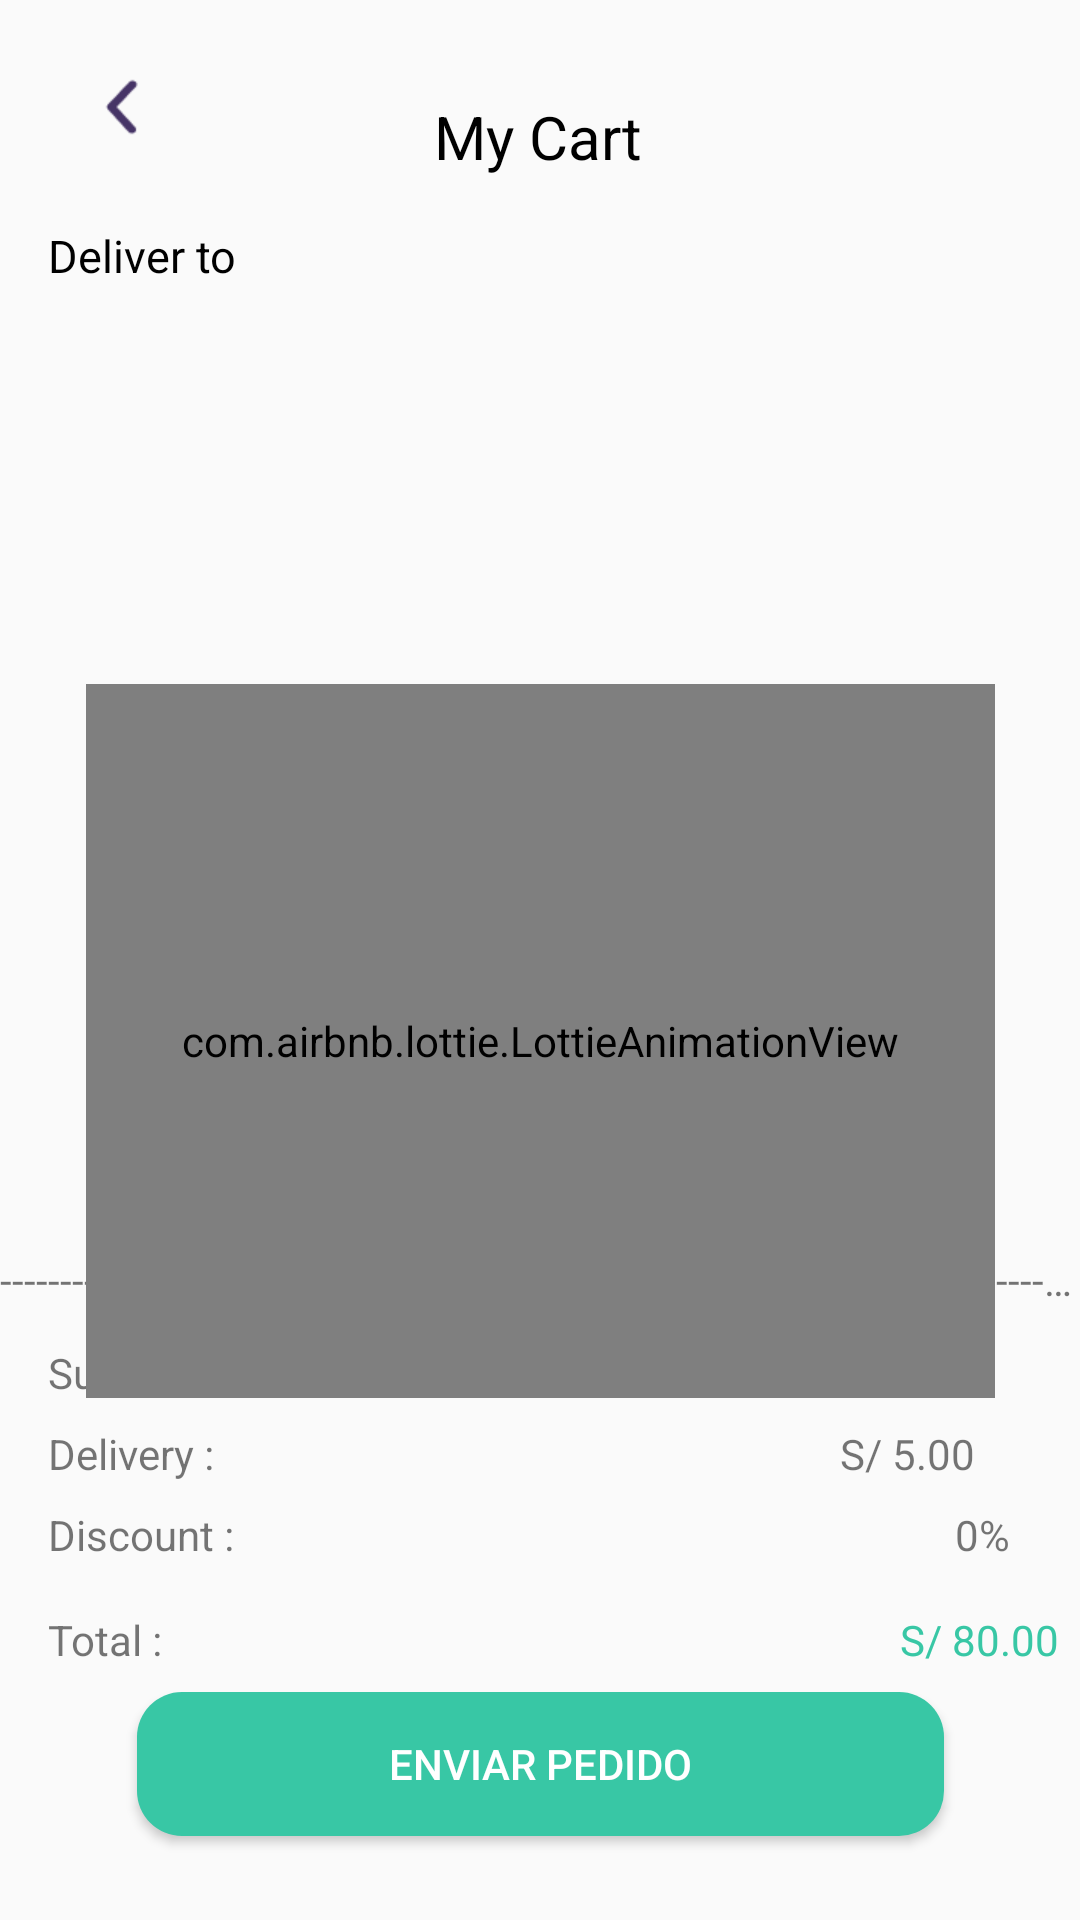

Where icons sit on this 1080*1920 app screen, as (x1, y1, x2, y2):
arrow back: (106, 80, 138, 134)
